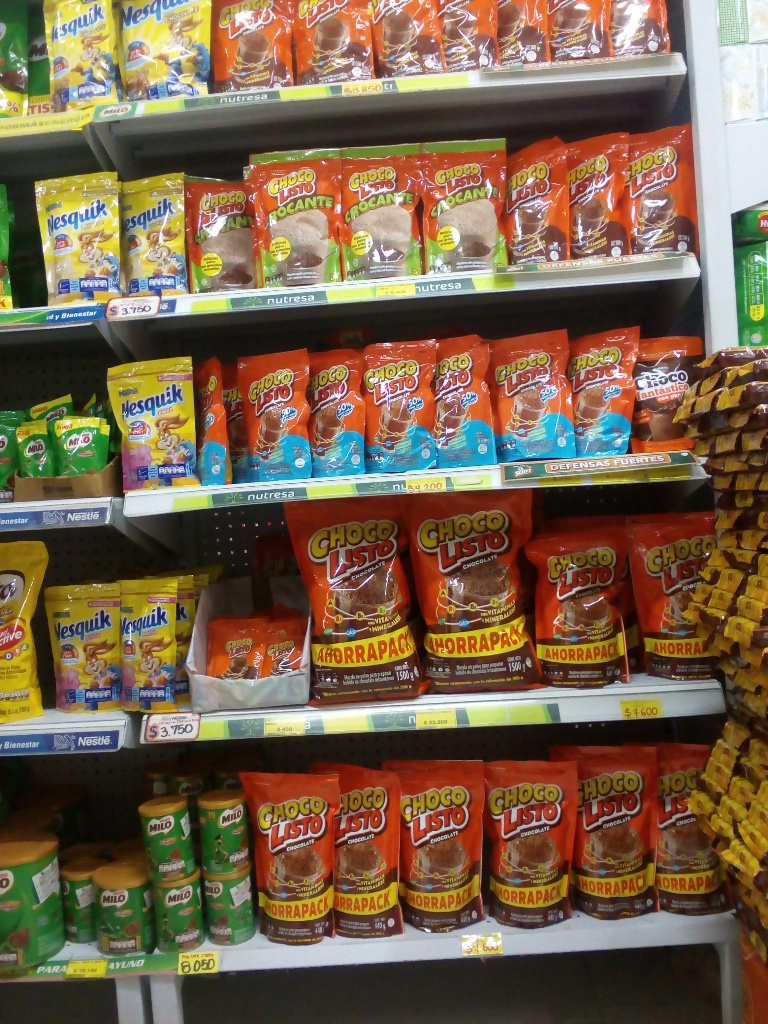COL0170102DYP25000: (187, 169, 266, 291)
COL0170103DYP1,500: (288, 505, 423, 704)
COL0170103DYP44000: (243, 764, 341, 948)
COL0170103SOB02000: (201, 619, 253, 683)
COL0170104DYP20000: (197, 354, 242, 489)
COL0170203LAT20000: (138, 800, 195, 886)
COL0170203LAT40000: (95, 872, 154, 962)
COL0170303DYP20000: (37, 1, 126, 106)
COL0170305DYP20000: (39, 578, 122, 717)
COL0170306DYP20000: (36, 171, 116, 302)
